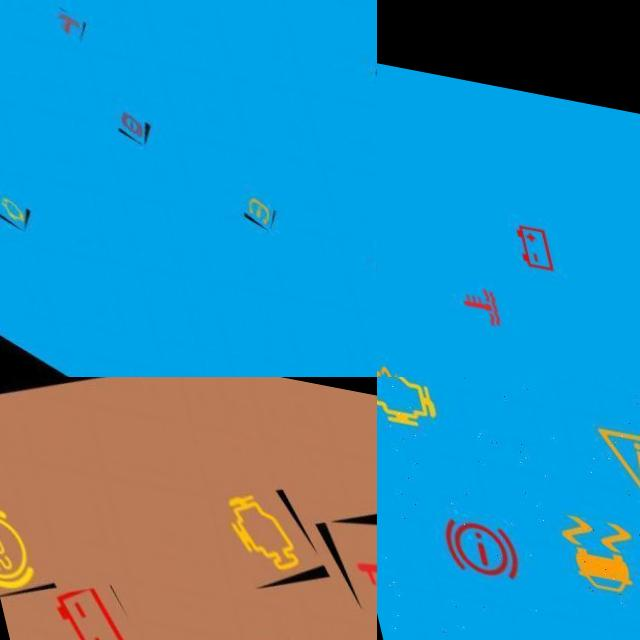High Engine Coolant Temperature: (440, 262, 499, 320)
